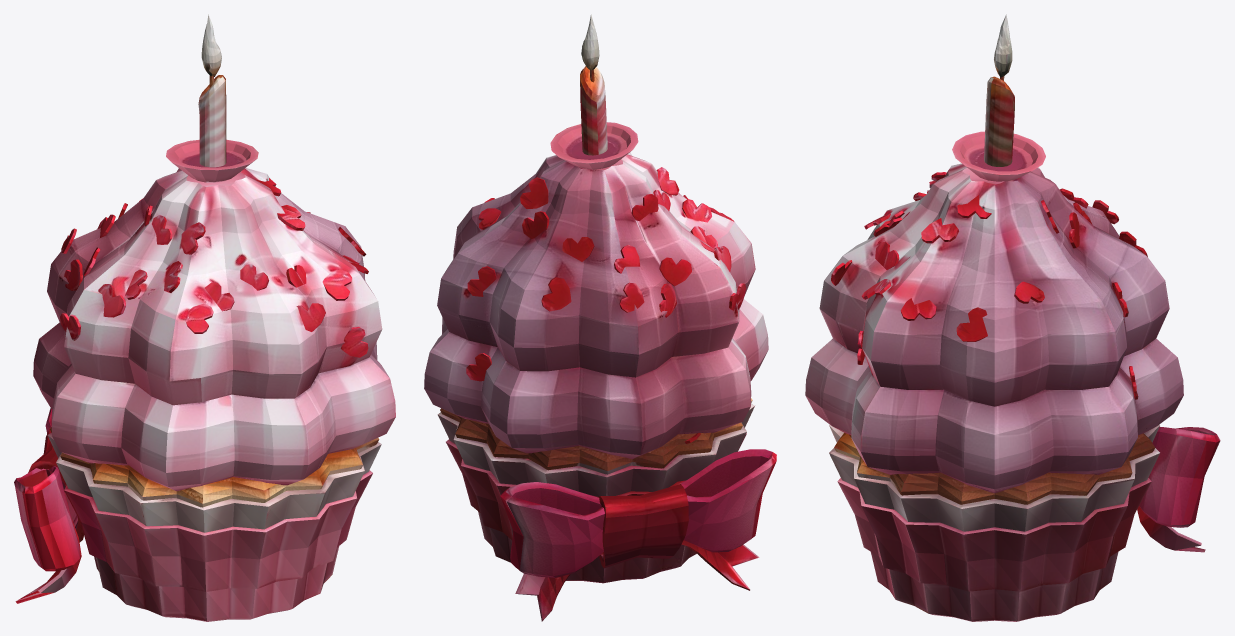
The picture shows the model from 3 angles, left to right: view 1: azimuth 30°, elevation 25°; view 2: azimuth 150°, elevation 25°; view 3: azimuth 270°, elevation 25°; orthographic projection. The views are drawn at different scales.
Parts seen in each view (by area): view 1: model; view 2: model; view 3: model.
Boxes of the visible parts, bbox=[...] form: model: bbox=[14, 14, 395, 621]; model: bbox=[424, 14, 776, 621]; model: bbox=[805, 14, 1220, 621].
Bounding box in the file's own units: 0.6621 × 1 × 0.6704.
1 material, 1 textured.
